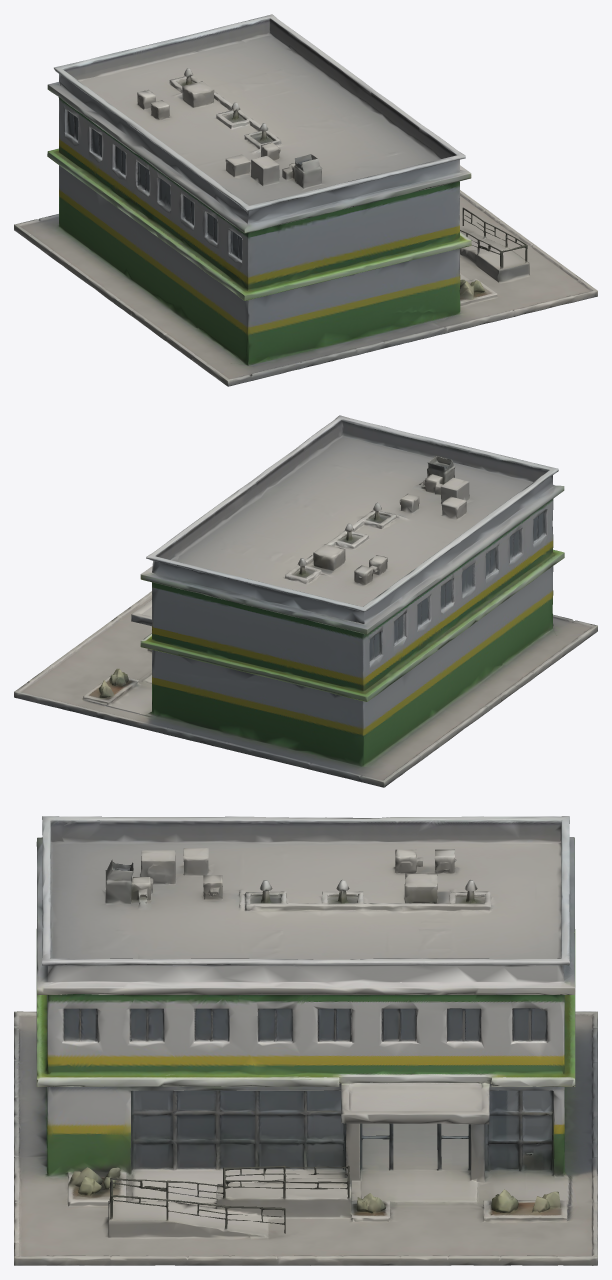
File: obra_cras.glb
3 renders of one model, top to bottom at view 1: azimuth 30°, elevation 25°; view 2: azimuth 150°, elevation 25°; view 3: azimuth 270°, elevation 25°, orthographic. The views are drawn at different scales.
Visible parts, largest first — view 1: tripo_node_7afbfcff-e9cc-41ab-9c40-05423c530652; view 2: tripo_node_7afbfcff-e9cc-41ab-9c40-05423c530652; view 3: tripo_node_7afbfcff-e9cc-41ab-9c40-05423c530652.
Boxes of the visible parts, box(x1,y1,x2,y2) form: tripo_node_7afbfcff-e9cc-41ab-9c40-05423c530652: box(14, 14, 597, 386); tripo_node_7afbfcff-e9cc-41ab-9c40-05423c530652: box(14, 415, 597, 787); tripo_node_7afbfcff-e9cc-41ab-9c40-05423c530652: box(14, 816, 597, 1265).
Bounding box in the file's own units: 1 × 0.4442 × 1.
Materials: 1 (1 with a texture image).
